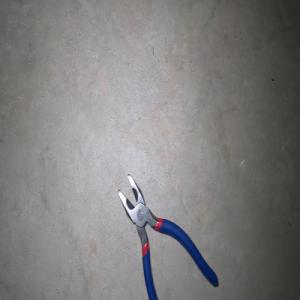Pliers: (117, 173, 218, 300)
